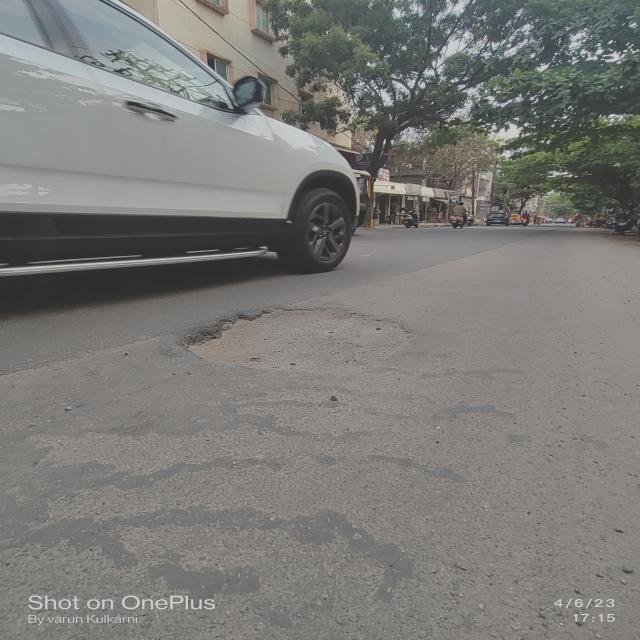potholes: (228, 306, 390, 381)
